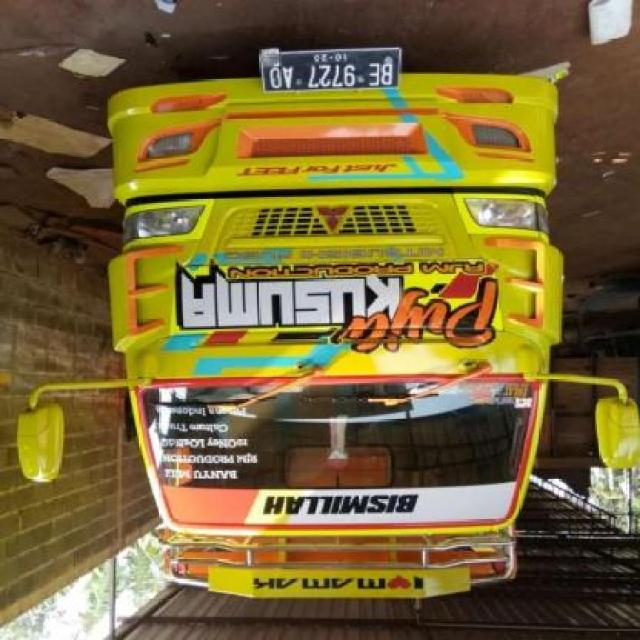truck: (19, 42, 640, 603)
